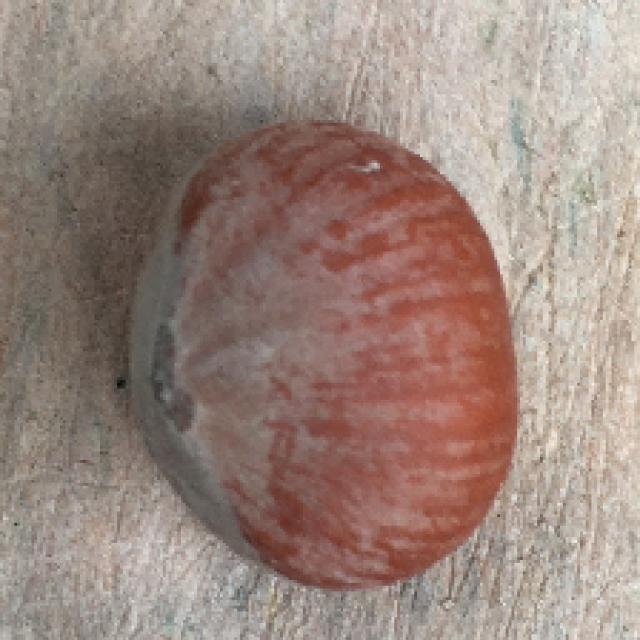qualityHazelnut: (110, 106, 524, 605)
